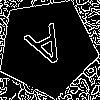A: (22, 22, 75, 79)
